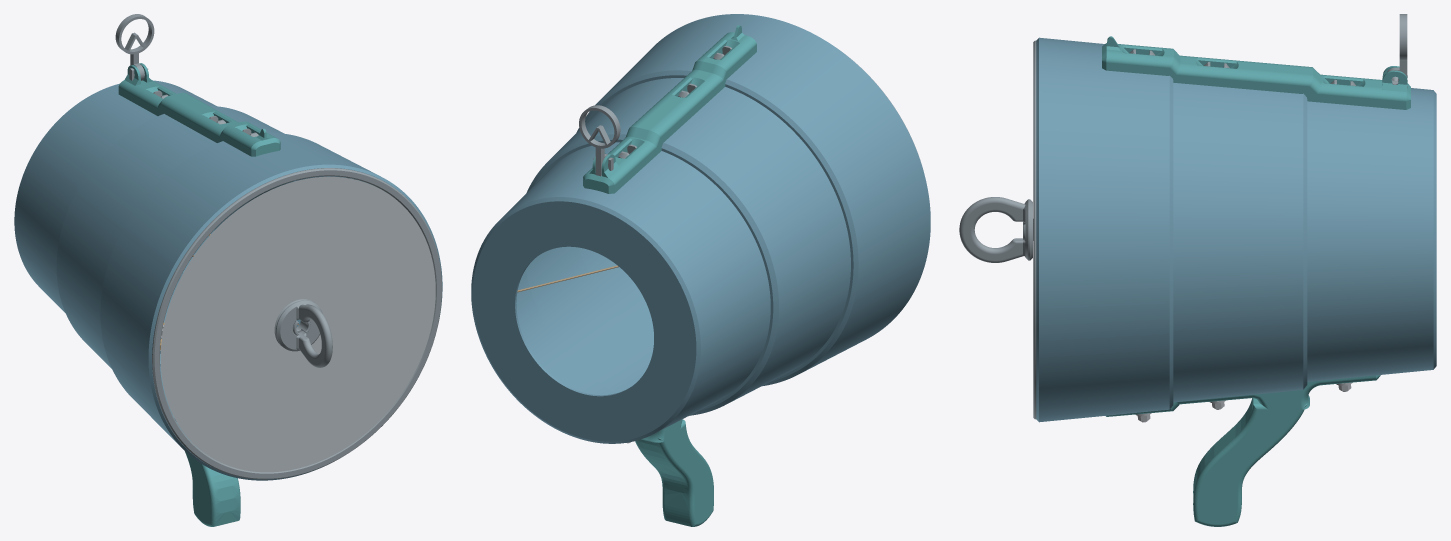
The model's file is optional-rear-grip-study.glb.
The picture shows the model from 3 angles, left to right: view 1: azimuth 30°, elevation 25°; view 2: azimuth 150°, elevation 25°; view 3: azimuth 270°, elevation 25°; orthographic projection. The views are drawn at different scales.
Parts seen in each view (by area): view 1: film-study, c-shell-7, c-shell-8, c-shell-6, stock-10, stock-3, optional-handle, stock-5, stock-2; view 2: c-shell-6, c-shell-8, c-shell-7, stock-3, optional-handle, stock-2; view 3: c-shell-7, c-shell-8, c-shell-6, stock-3, optional-handle, stock-5, stock-10, stock-2.
Boxes of the visible parts, <box> form: film-study: <box>160,176,435,472</box>; c-shell-7: <box>100,132,442,480</box>; c-shell-8: <box>56,106,353,421</box>; c-shell-6: <box>14,80,296,366</box>; stock-10: <box>152,168,442,479</box>; stock-3: <box>118,63,280,156</box>; optional-handle: <box>185,451,240,526</box>; stock-5: <box>276,300,332,367</box>; stock-2: <box>115,14,154,80</box>; c-shell-6: <box>471,142,770,443</box>; c-shell-8: <box>525,78,850,415</box>; c-shell-7: <box>576,14,930,386</box>; stock-3: <box>583,25,756,193</box>; optional-handle: <box>635,419,713,526</box>; stock-2: <box>579,105,620,176</box>; c-shell-7: <box>1036,37,1173,422</box>; c-shell-8: <box>1173,83,1307,402</box>; c-shell-6: <box>1307,88,1436,381</box>; stock-3: <box>1102,36,1410,109</box>; optional-handle: <box>1106,375,1380,526</box>; stock-5: <box>959,197,1032,262</box>; stock-10: <box>1033,40,1036,419</box>; stock-2: <box>1387,14,1407,87</box>.
Size of the model in its own units: 0.2496 by 0.3613 by 0.3098.
